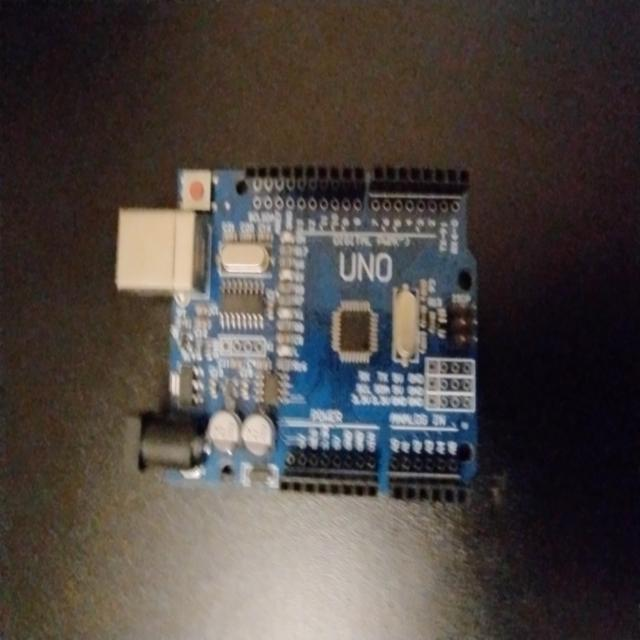arduino: (115, 154, 485, 514)
